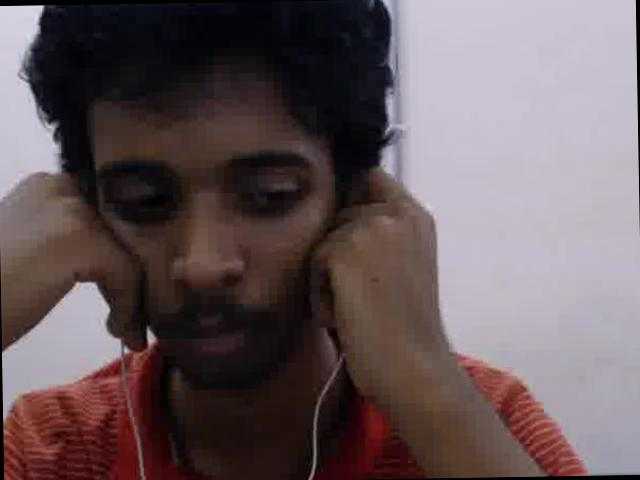bosan: (74, 71, 340, 392)
